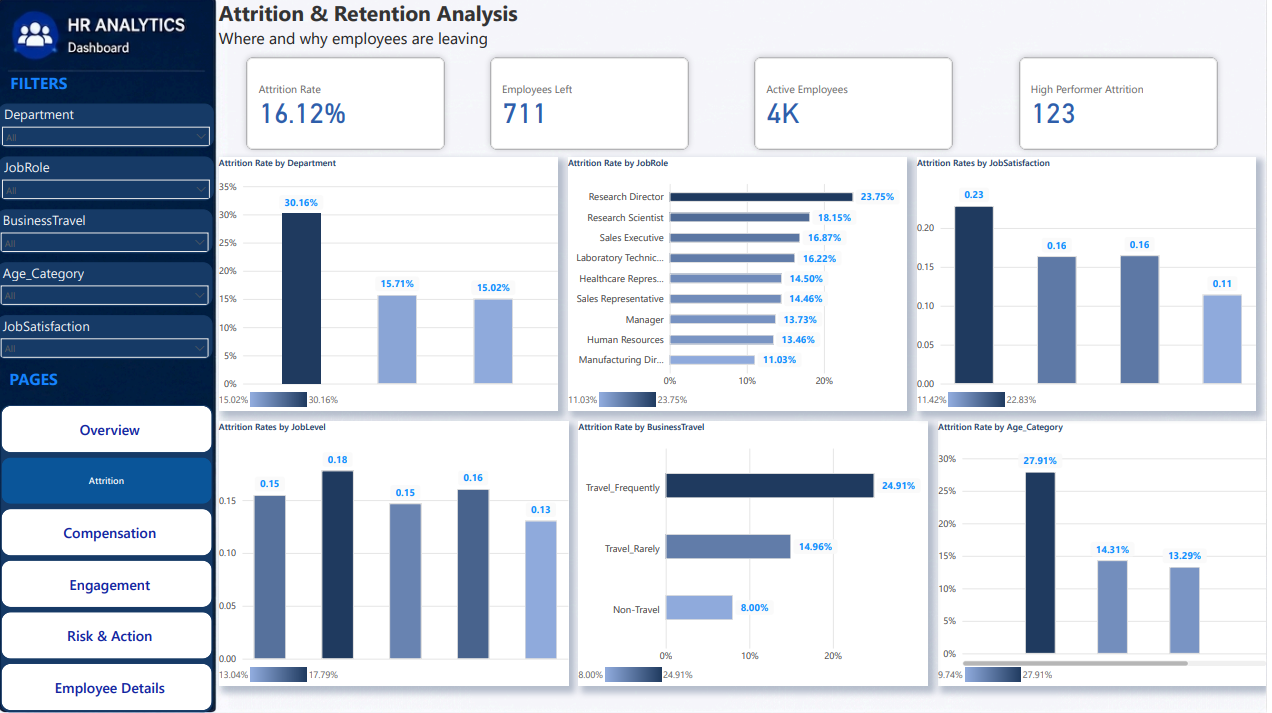

The dashboard page shown, as its layout file describes it:
{"tool":"powerbi","page":{"name":" Attrition","canvas":[1920,1080],"ordinal":1},"visuals":[{"type":"cardVisual","title":"Total Employees","fields":{"Data":["HR_Analytics_Cleaned_data.High Performer Attrition"]},"box":[1536,80,320,160],"z":0},{"type":"cardVisual","title":"Total Employees","fields":{"Data":["HR_Analytics_Cleaned_data.Attrition Rate"]},"box":[368,80,320,160],"z":1000},{"type":"cardVisual","title":"Total Employees","fields":{"Data":["HR_Analytics_Cleaned_data.Employees Left"]},"box":[736,80,320,160],"z":2000},{"type":"clusteredColumnChart","fields":{"Category":["HR_Analytics_Cleaned_data.Department"],"Y":["HR_Analytics_Cleaned_data.Attrition Rate"]},"box":[336,240,512,384],"z":3000},{"type":"cardVisual","title":"Total Employees","fields":{"Data":["HR_Analytics_Cleaned_data.Active Employees"]},"box":[1136,80,320,160],"z":4000},{"type":"clusteredBarChart","fields":{"Category":["HR_Analytics_Cleaned_data.JobRole"],"Y":["HR_Analytics_Cleaned_data.Attrition Rate"]},"box":[864,240,512,384],"z":5000},{"type":"clusteredColumnChart","fields":{"Category":["HR_Analytics_Cleaned_data.Age_Category"],"Y":["HR_Analytics_Cleaned_data.Attrition Rate"]},"box":[1424,640,496,400],"z":6000},{"type":"slicer","fields":{"Values":["HR_Analytics_Cleaned_data.JobRole"]},"box":[2,240,326,66],"z":7000},{"type":"slicer","fields":{"Values":["HR_Analytics_Cleaned_data.BusinessTravel"]},"box":[0,320,326,66],"z":8000},{"type":"slicer","fields":{"Values":["HR_Analytics_Cleaned_data.Age_Category"]},"box":[0,400,326,66],"z":9000},{"type":"slicer","fields":{"Values":["HR_Analytics_Cleaned_data.JobSatisfaction"]},"box":[0,480,326,66],"z":10000},{"type":"slicer","fields":{"Values":["HR_Analytics_Cleaned_data.Department"]},"box":[2,160,326,66],"z":11000},{"type":"textbox","box":[0,112,128,32],"z":12000},{"type":"columnChart","fields":{"Category":["HR_Analytics_Cleaned_data.JobLevel"],"Y":["HR_Analytics_Cleaned_data.Attrition Rates"]},"box":[336,640,528,400],"z":13000},{"type":"clusteredBarChart","fields":{"Category":["HR_Analytics_Cleaned_data.BusinessTravel"],"Y":["HR_Analytics_Cleaned_data.Attrition Rate"]},"box":[880,640,528,400],"z":14000},{"type":"columnChart","fields":{"Category":["HR_Analytics_Cleaned_data.JobSatisfaction"],"Y":["HR_Analytics_Cleaned_data.Attrition Rates"]},"box":[1392,240,512,384],"z":15000},{"type":"pageNavigator","box":[6,616,320,464],"z":16000},{"type":"textbox","box":[0,560,112,48],"z":17000},{"type":"textbox","box":[336,0,944,80],"z":18000}]}

Visuals, with their boxes on the page's 1920x1080 design canvas (x1, y1, x2, y2). These are canvas units, not pixel positions in the 1272x713 screenshot, which may show the page scaled, cropped or inside an application window:
"Total Employees" cardVisual: rect(1536, 80, 1856, 240)
"Total Employees" cardVisual: rect(368, 80, 688, 240)
"Total Employees" cardVisual: rect(736, 80, 1056, 240)
clusteredColumnChart - HR_Analytics_Cleaned_data.Department x HR_Analytics_Cleaned_data.Attrition Rate: rect(336, 240, 848, 624)
"Total Employees" cardVisual: rect(1136, 80, 1456, 240)
clusteredBarChart - HR_Analytics_Cleaned_data.JobRole x HR_Analytics_Cleaned_data.Attrition Rate: rect(864, 240, 1376, 624)
clusteredColumnChart - HR_Analytics_Cleaned_data.Age_Category x HR_Analytics_Cleaned_data.Attrition Rate: rect(1424, 640, 1920, 1040)
slicer - HR_Analytics_Cleaned_data.JobRole: rect(2, 240, 328, 306)
slicer - HR_Analytics_Cleaned_data.BusinessTravel: rect(0, 320, 326, 386)
slicer - HR_Analytics_Cleaned_data.Age_Category: rect(0, 400, 326, 466)
slicer - HR_Analytics_Cleaned_data.JobSatisfaction: rect(0, 480, 326, 546)
slicer - HR_Analytics_Cleaned_data.Department: rect(2, 160, 328, 226)
textbox: rect(0, 112, 128, 144)
columnChart - HR_Analytics_Cleaned_data.JobLevel x HR_Analytics_Cleaned_data.Attrition Rates: rect(336, 640, 864, 1040)
clusteredBarChart - HR_Analytics_Cleaned_data.BusinessTravel x HR_Analytics_Cleaned_data.Attrition Rate: rect(880, 640, 1408, 1040)
columnChart - HR_Analytics_Cleaned_data.JobSatisfaction x HR_Analytics_Cleaned_data.Attrition Rates: rect(1392, 240, 1904, 624)
pageNavigator: rect(6, 616, 326, 1080)
textbox: rect(0, 560, 112, 608)
textbox: rect(336, 0, 1280, 80)
